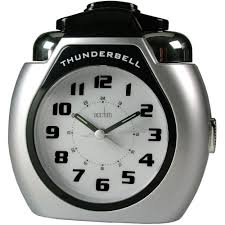alarm_clock: (10, 3, 216, 219)
